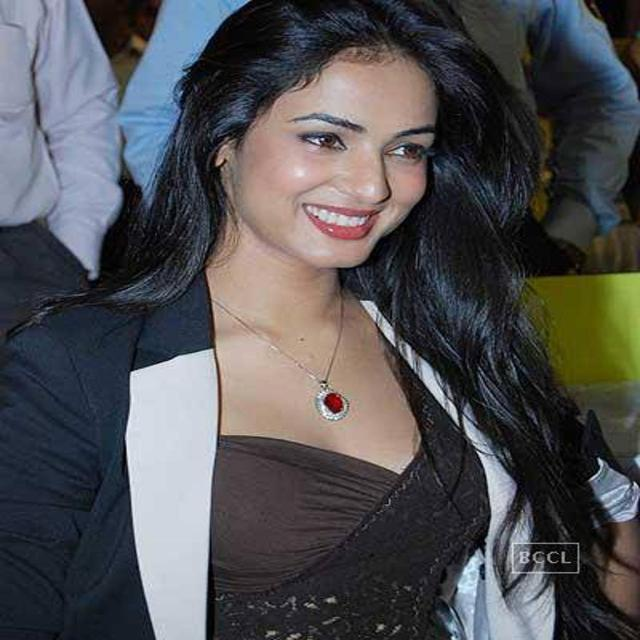Face: (248, 53, 459, 284)
